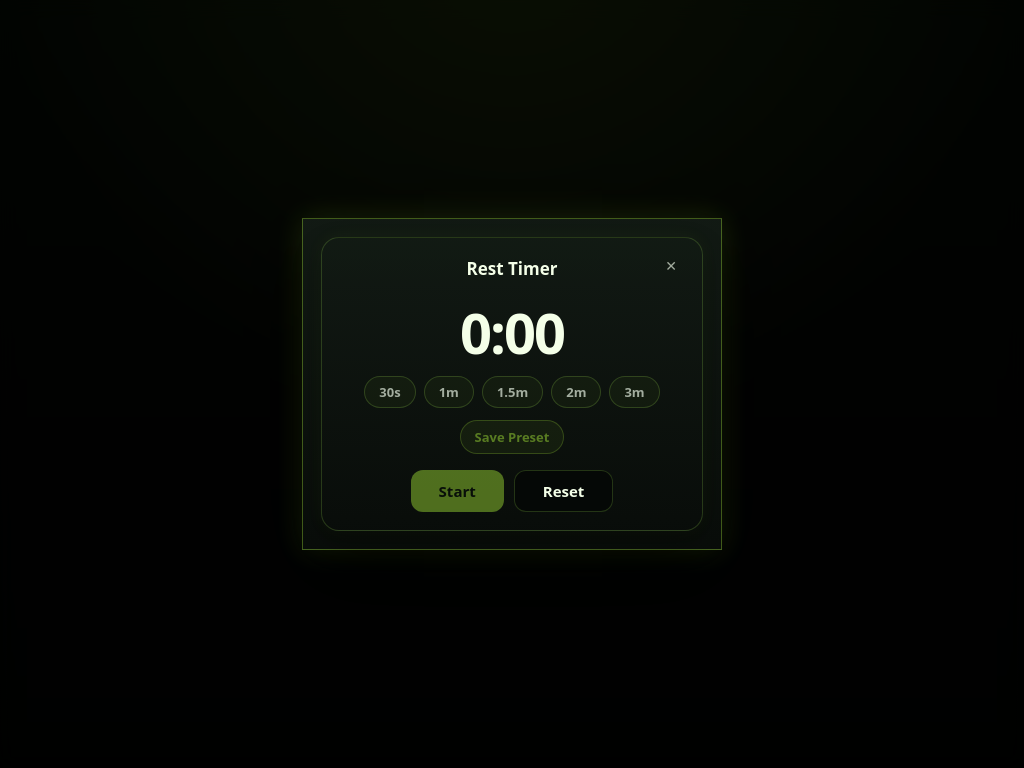
it: RestTimer › lets the user save the currently selected popup timer as the default preset
Click the button "2m" at (576, 392), box [551,376,601,408]
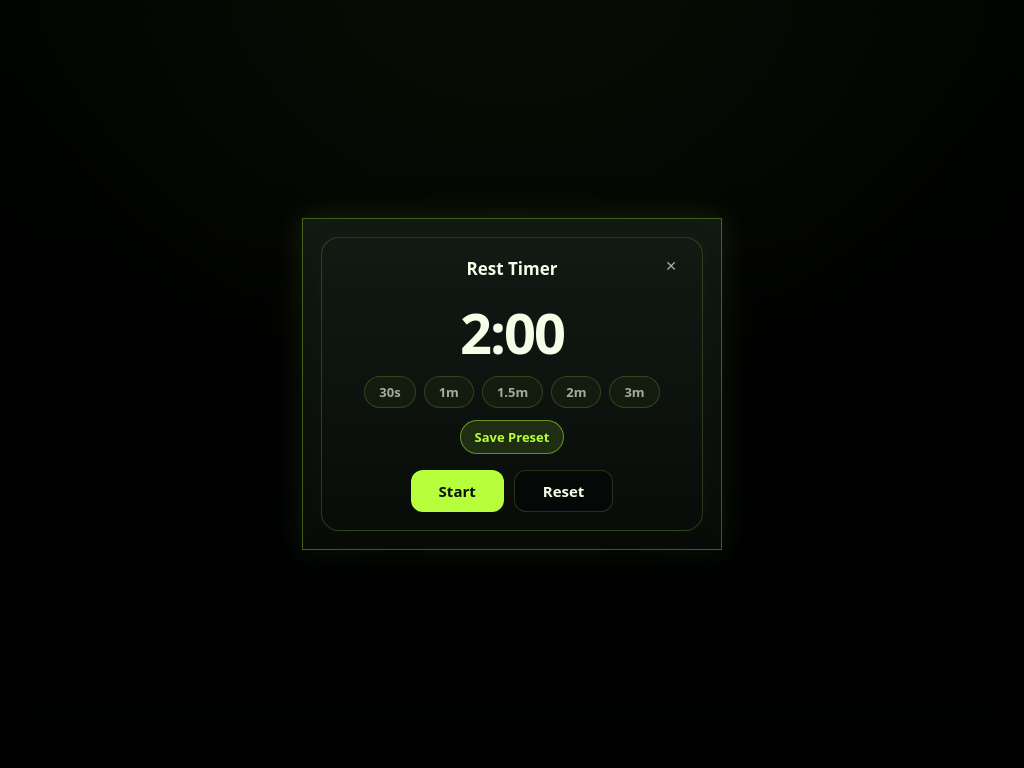
Click the button "Save Preset" at (512, 437), box [460,420,564,454]
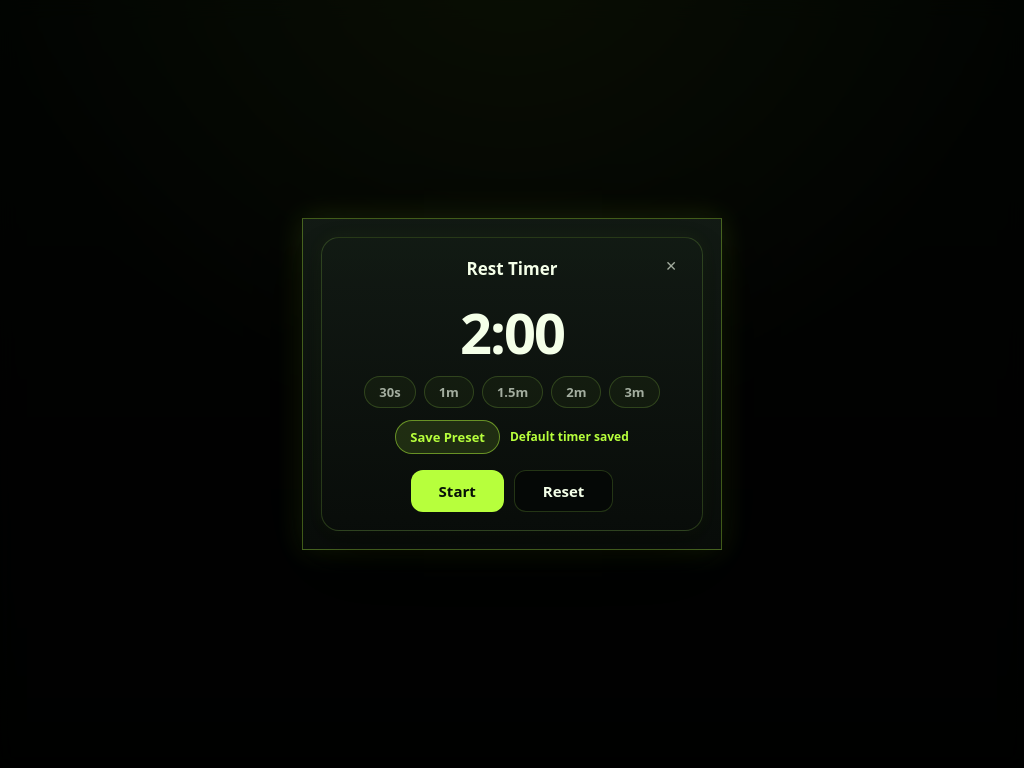
Now the message reads "Default timer saved", box [510,428,629,445]
